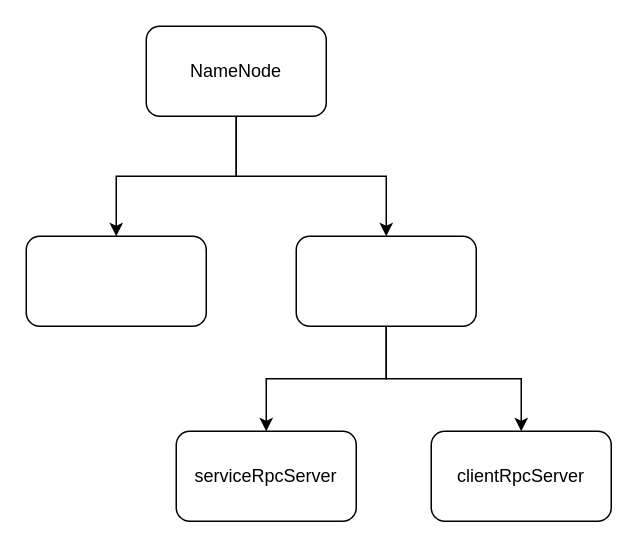
Some shapes in this 638 by 548 pixel diagram are drawn without their labels. The shapes that lost their labels are listed below. From the top down, each one's centre as x and y in pixels, then its label:
At point 115,280: "HttpServer".
At point 385,280: "RpcServer".
